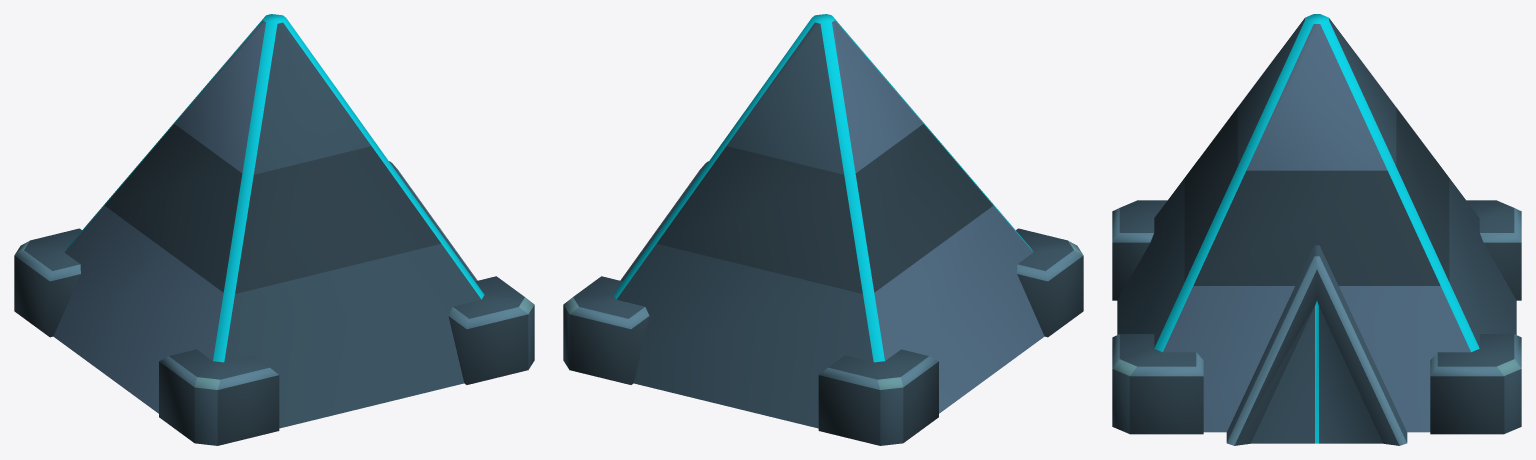
Rendered from Buildings_4.fbx.
3 views of the same model, side by side, from view 1: azimuth 30°, elevation 25°; view 2: azimuth 150°, elevation 25°; view 3: azimuth 270°, elevation 25° (orthographic). The views are drawn at different scales.
Visible parts, largest first — view 1: Buildings.003; view 2: Buildings.003; view 3: Buildings.003.
Part boxes in pixels (x1=…): Buildings.003: x1=14, y1=14, x2=534, y2=445; Buildings.003: x1=563, y1=14, x2=1083, y2=445; Buildings.003: x1=1112, y1=14, x2=1521, y2=445.
Size of the model in its own units: 507 by 479 by 432.
